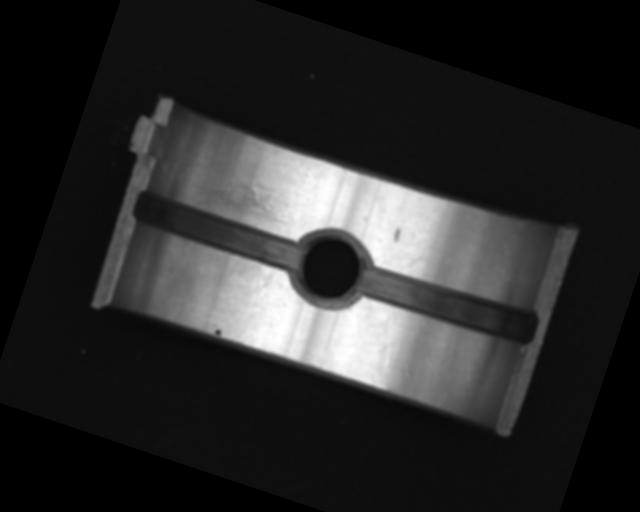blot: (211, 325, 223, 337)
bruise: (390, 226, 402, 244)
gap: (352, 254, 541, 350), (130, 187, 306, 275)
hole: (281, 222, 375, 317)
nick: (374, 306, 407, 367)
scratch: (189, 164, 301, 231)
